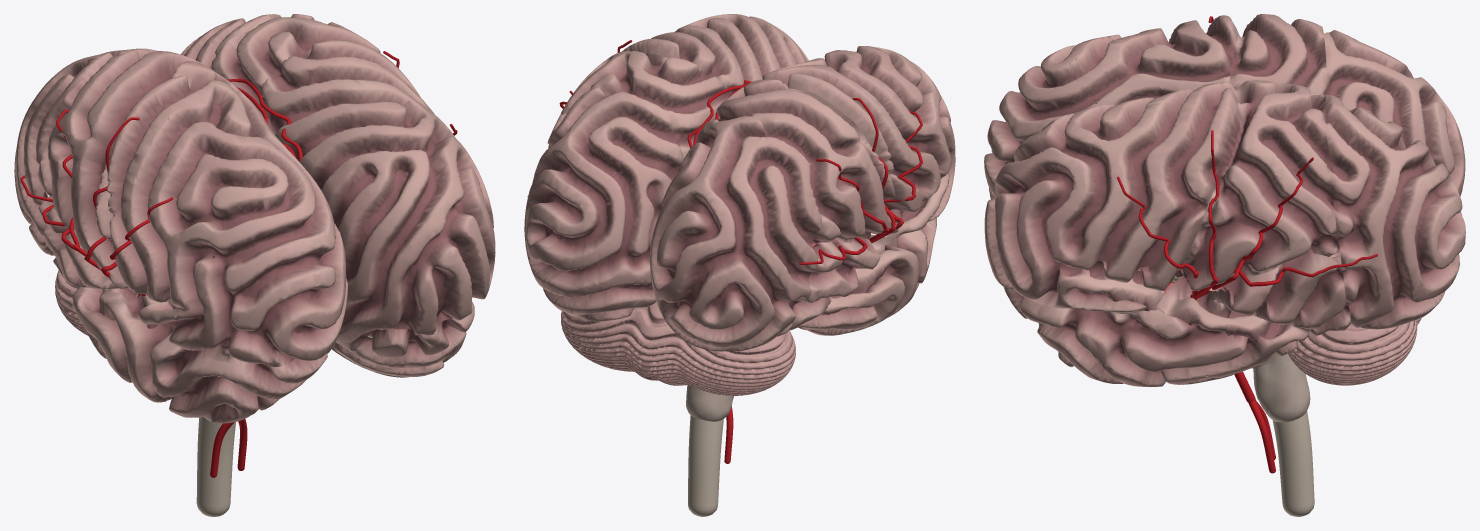
The model's file is brain.glb.
The picture shows the model from 3 angles, left to right: view 1: azimuth 30°, elevation 25°; view 2: azimuth 150°, elevation 25°; view 3: azimuth 270°, elevation 25°; orthographic projection. The views are drawn at different scales.
Parts seen in each view (by area): view 1: frontal_R, frontal_L, temporal_R, parietal_R, parietal_L, occipital_R, temporal_L, arteries, spinal, occipital_L, cerebellum; view 2: occipital_R, occipital_L, frontal_R, parietal_R, cerebellum, temporal_R, frontal_L, parietal_L, spinal, arteries, brainstem; view 3: frontal_L, temporal_L, occipital_L, parietal_L, frontal_R, occipital_R, parietal_R, cerebellum, arteries, spinal, brainstem.
Part boxes in pixels (x1,y1,x2,y2): frontal_R: (107, 75, 347, 366); frontal_L: (261, 40, 495, 352); temporal_R: (38, 196, 327, 423); parietal_R: (38, 49, 240, 288); parietal_L: (211, 14, 380, 113); occipital_R: (14, 48, 158, 255); temporal_L: (331, 302, 474, 377); arteries: (20, 51, 457, 477); spinal: (196, 417, 235, 516); occipital_L: (180, 14, 280, 68); cerebellum: (55, 270, 88, 335); occipital_R: (649, 116, 821, 351); occipital_L: (524, 88, 683, 321); frontal_R: (762, 46, 955, 238); parietal_R: (696, 79, 898, 243); cerebellum: (561, 302, 795, 395); temporal_R: (788, 218, 936, 335); frontal_L: (621, 14, 808, 95); parietal_L: (548, 51, 729, 160); spinal: (688, 415, 723, 516); arteries: (527, 40, 922, 463); brainstem: (686, 385, 733, 421); frontal_L: (984, 82, 1237, 313); temporal_L: (1003, 253, 1350, 386); occipital_L: (1325, 95, 1465, 329); parietal_L: (1175, 80, 1338, 290); frontal_R: (984, 15, 1237, 199); occipital_R: (1324, 30, 1465, 196); parietal_R: (1229, 14, 1339, 256); cerebellum: (1288, 248, 1421, 385); arteries: (1117, 16, 1377, 473); spinal: (1272, 411, 1314, 516); brainstem: (1253, 352, 1310, 422).
Bounding box in the file's own units: 1.77 × 2.33 × 2.22.
